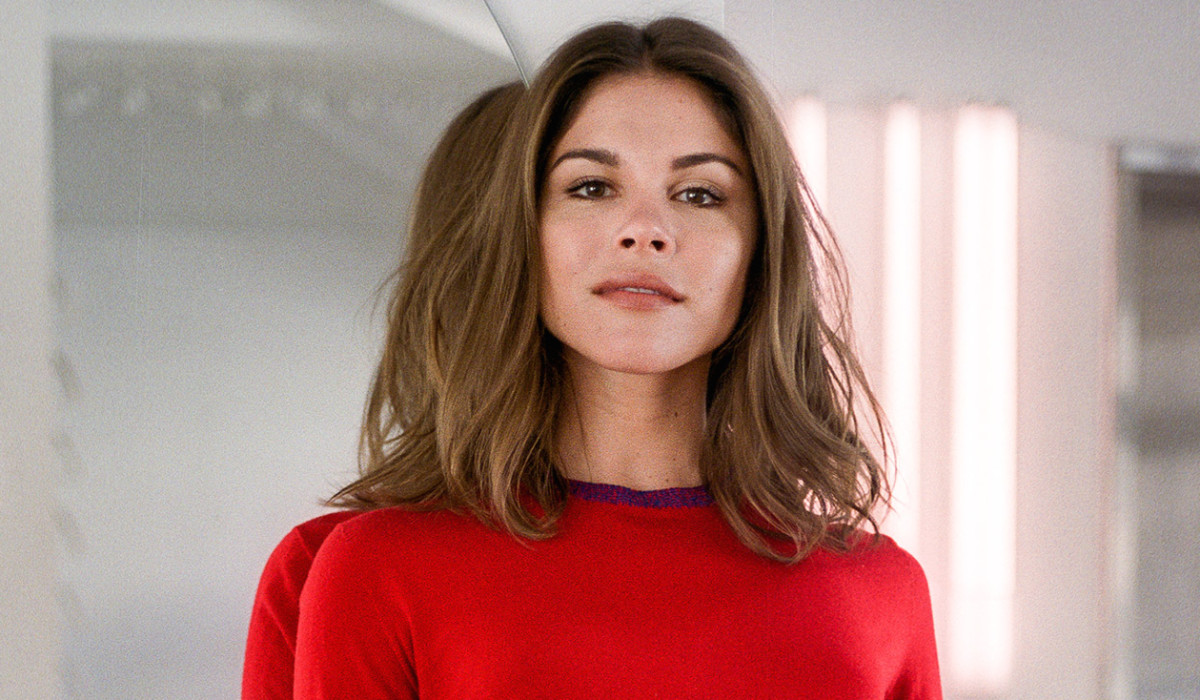bare: (536, 208, 747, 367)
